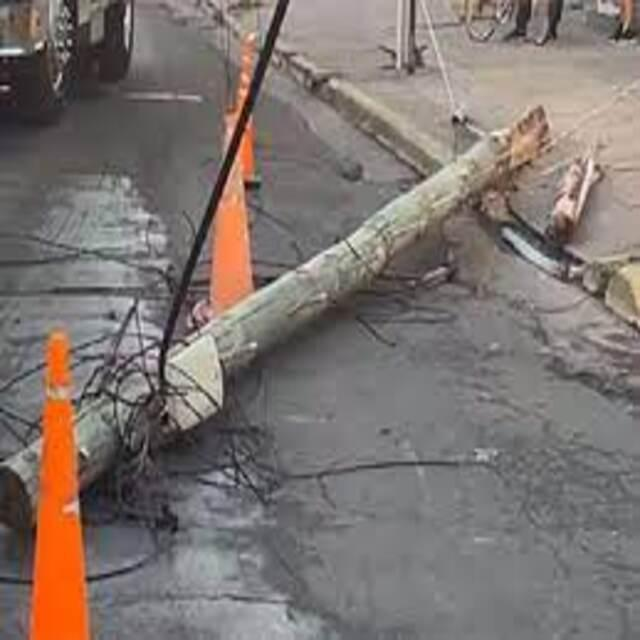Inclined Pole: (0, 96, 565, 543)
